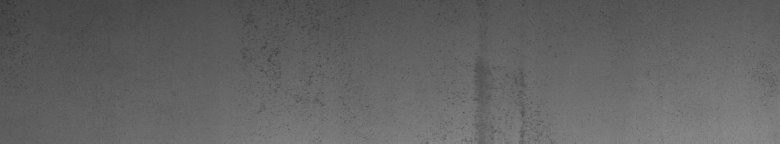ib: (244, 4, 356, 123)
